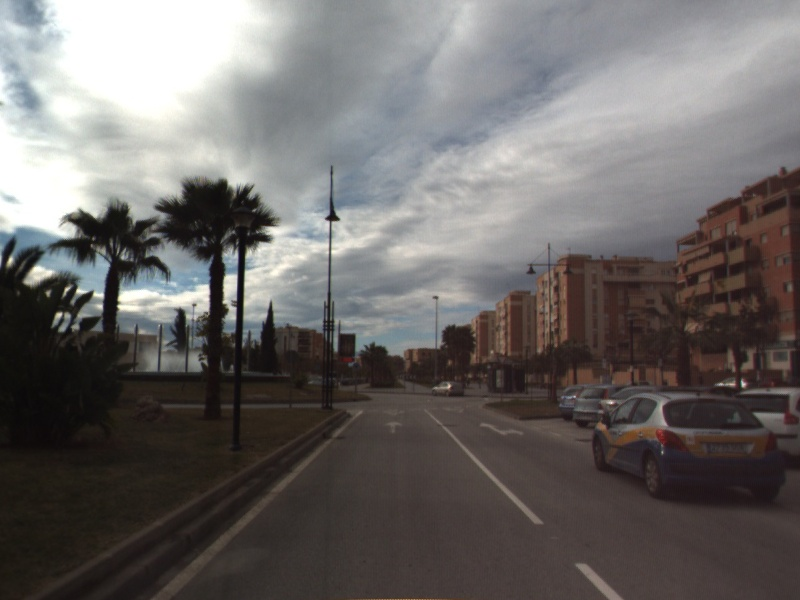STRAIGHT: (383, 419, 405, 435)
STRAIGHT_RIGHT: (478, 420, 526, 438)
